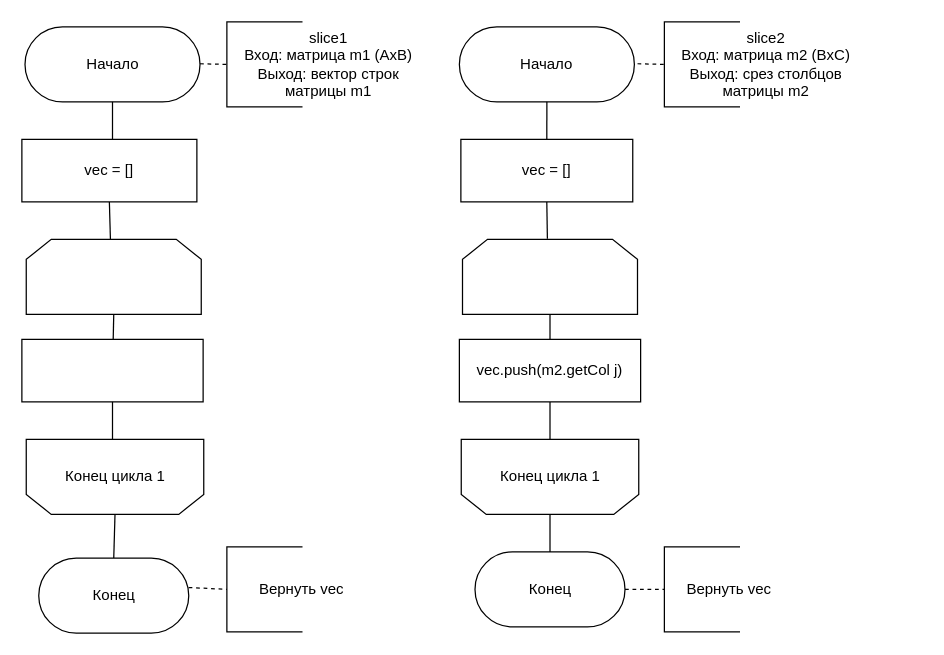
This 944x655 diagram has some shape labels left out. Each missing label, with the box of its shape:
vec.push(m1.getRow i): (21, 338, 203, 402)
Цикл 1 j = 1; j <=A; j = j+1: (25, 238, 201, 314)
Цикл 1 j = 1; j <=C; j = j+1: (461, 238, 638, 314)
